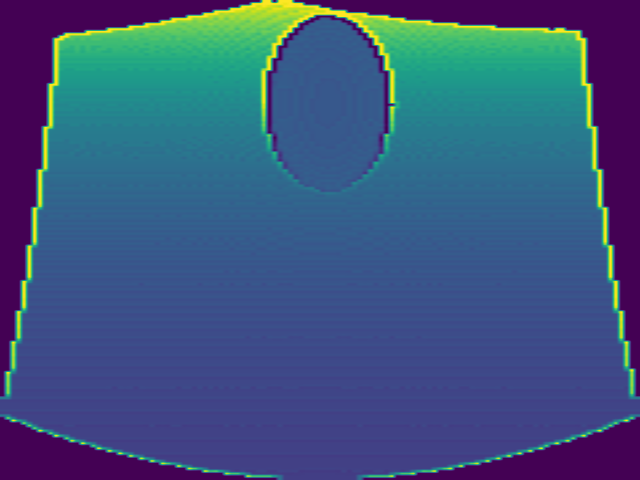sphere: (261, 14, 396, 193)
